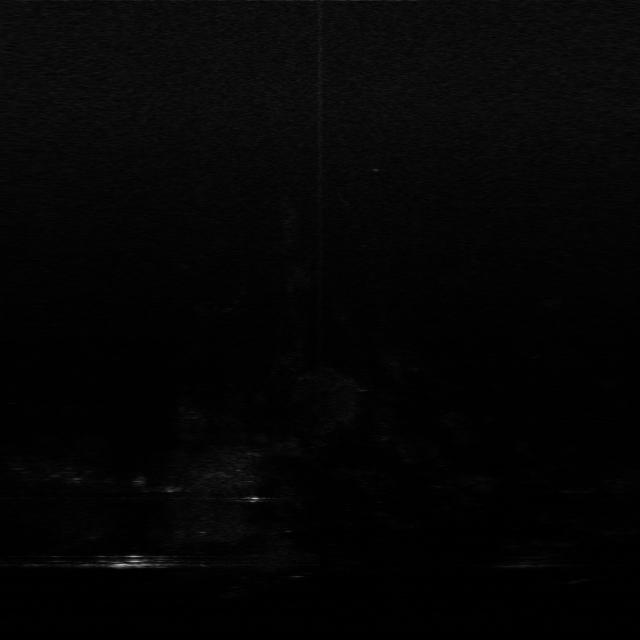rov: (103, 550, 152, 574)
